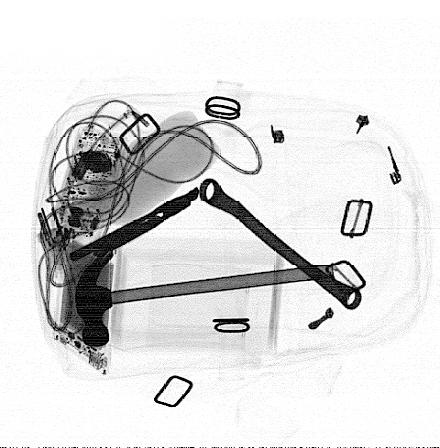Hammer: (74, 250, 334, 348)
Pliers: (69, 187, 199, 261)
Powerbank: (54, 233, 118, 377)
Wrench: (199, 176, 363, 311)
